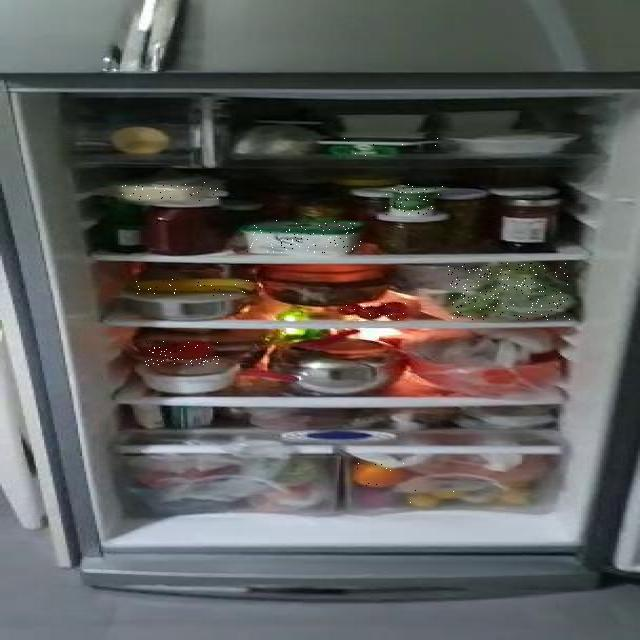banana: (135, 278, 260, 296)
cheese: (244, 220, 361, 253), (122, 182, 218, 201)
cream cheese: (320, 138, 446, 157)
lemon: (406, 490, 464, 508)
lettuce: (448, 263, 570, 320)
orange: (352, 463, 409, 486)
tomatoes: (145, 341, 219, 366), (341, 302, 409, 321)
yoghurt: (383, 184, 443, 215)
